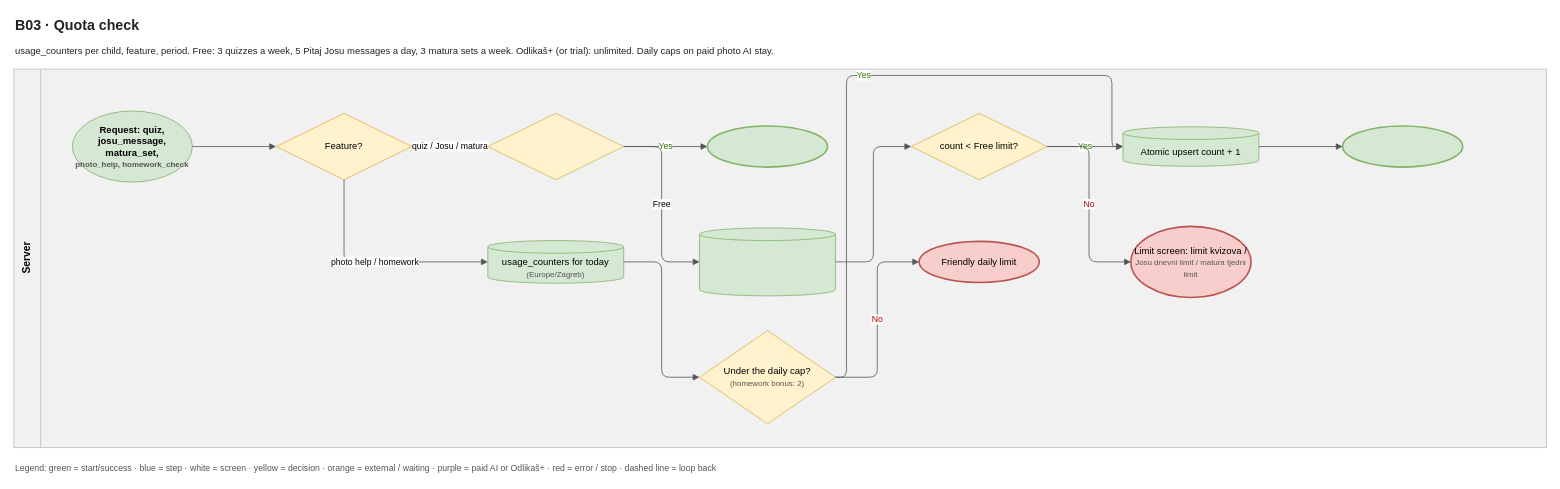
The diagram is 1560 pixels wide and 489 high, and some of its shapes have lost their labels. The shapes that lost their labels are listed below. From the top down, each one's centre as x and y in pixels, then its label:
At point 555,146: "Odlikaš+ or trial?".
At point 767,146: "Allowed (unlimited)".
At point 1402,146: "Allowed ('Još N od 5')".
At point 767,261: "usage_counters: quiz → week (3), Josu → day (5), matura → week (3)".
